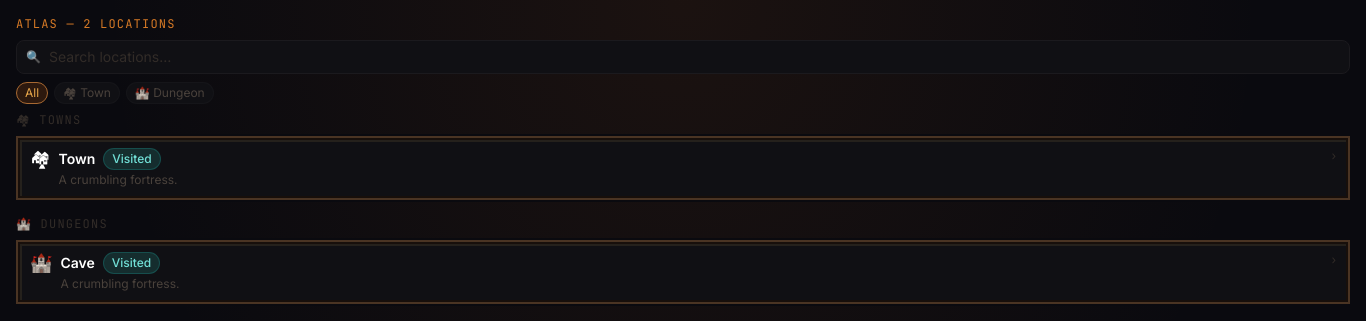
Test: AtlasPanel — type filter › clicking the active filter pill again clears it
This screenshot has width=1366, height=321.
Click the button "🏰 Dungeon". click: (170, 93)
box: x1=126 y1=82 x2=214 y2=104
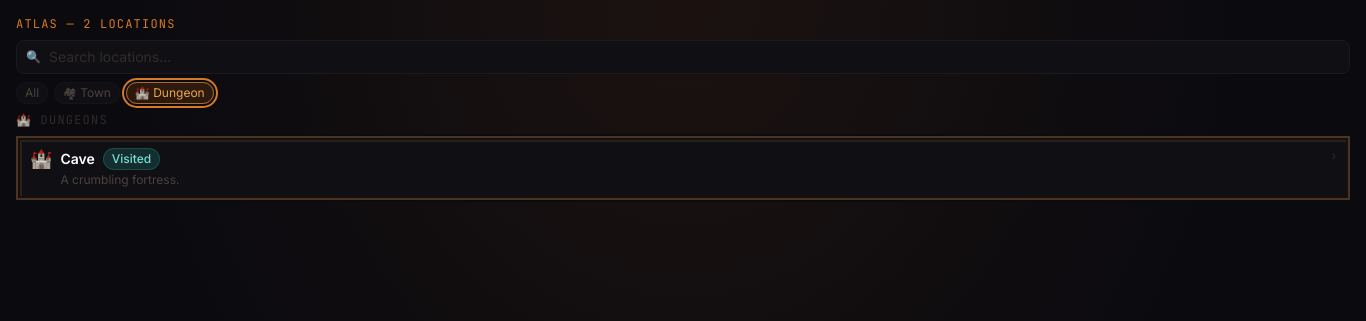
Click the button "🏰 Dungeon". click: (170, 93)
box: x1=126 y1=82 x2=214 y2=104
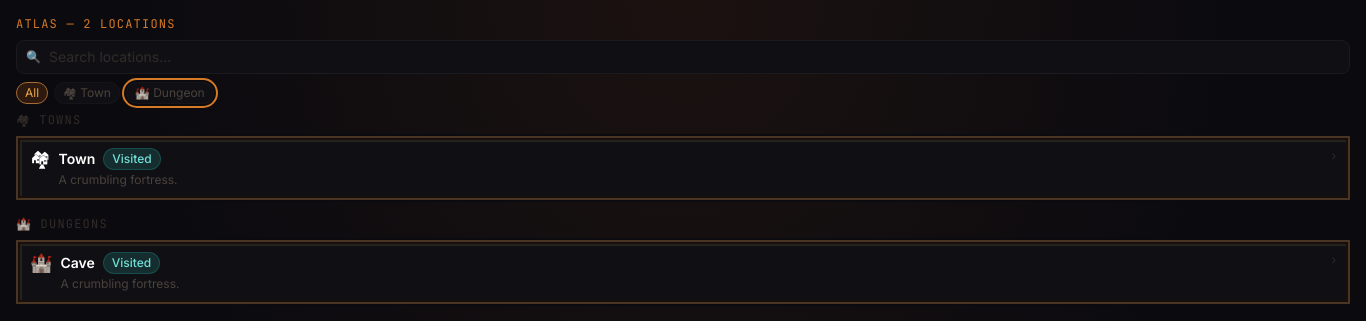
Expected: the text "Cave" is shown, x1=60 y1=253 x2=95 y2=273
Now the text "Town" is shown, box x1=58 y1=149 x2=95 y2=169
